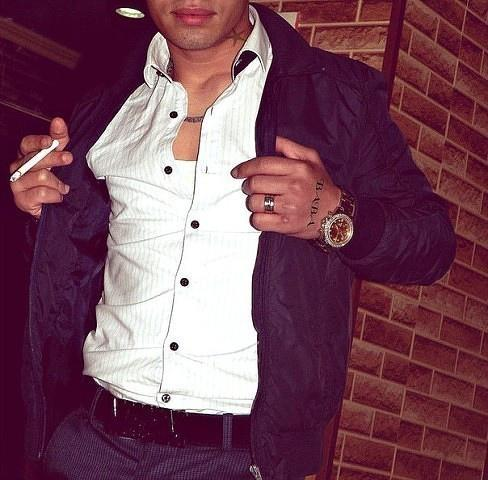cigarette: (10, 140, 59, 182)
